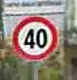limite 40: (11, 15, 58, 62)
